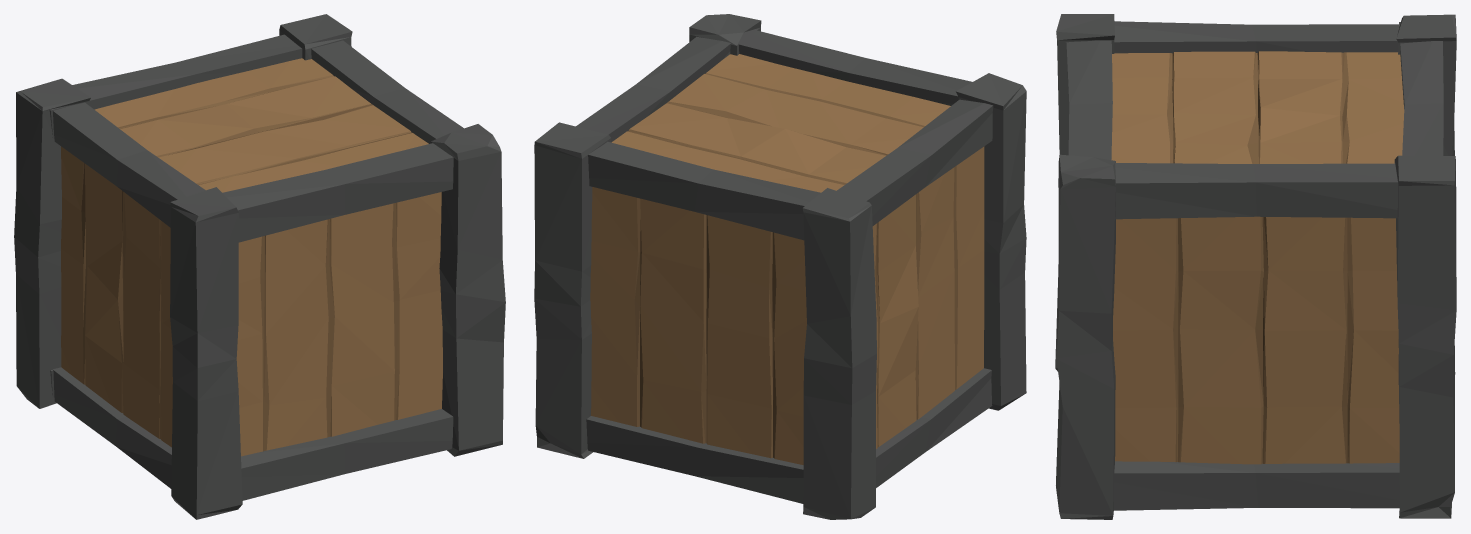
3 views of the same model, side by side, from view 1: azimuth 30°, elevation 25°; view 2: azimuth 150°, elevation 25°; view 3: azimuth 270°, elevation 25° (orthographic). The views are drawn at different scales.
Visible parts, largest first — view 1: Box_001; view 2: Box_001; view 3: Box_001.
Part boxes in pixels (box(x1,y1,x2,y2)): Box_001: box(14, 14, 505, 519); Box_001: box(534, 14, 1026, 519); Box_001: box(1055, 14, 1456, 519).
Size of the model in its own units: 0.8077 by 0.747 by 0.7973.
